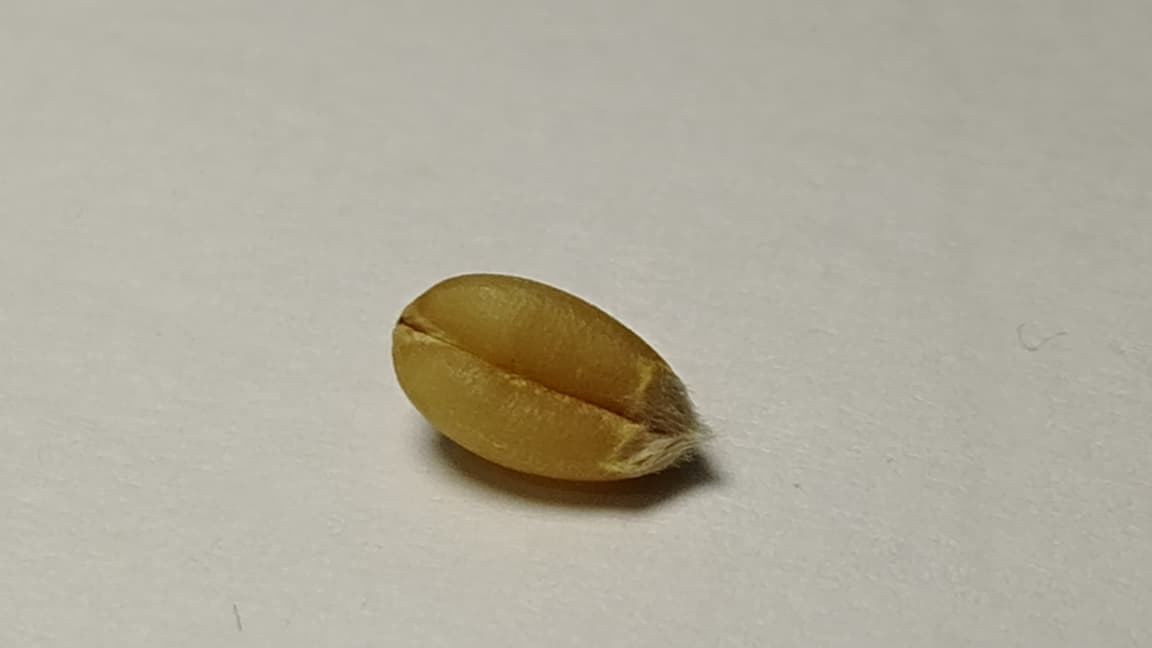healthy: (393, 274, 698, 475)
